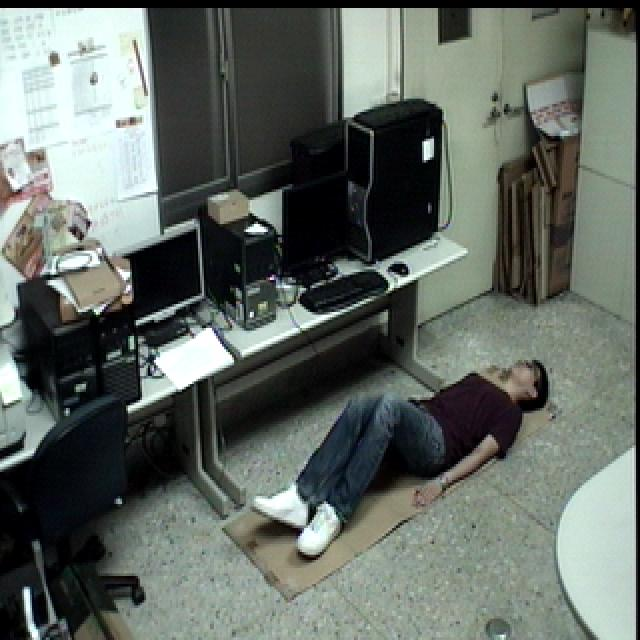lie: (244, 342, 560, 564)
